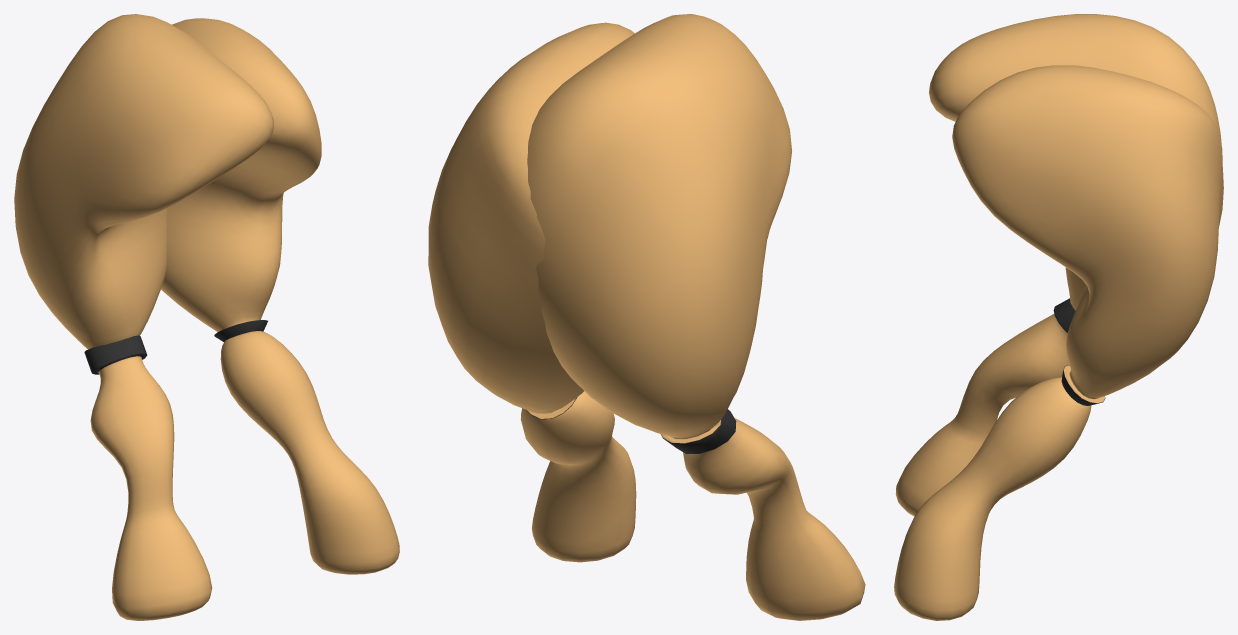
File: hair-006-a6d6a56c.glb
3 renders of one model, left to right at view 1: azimuth 30°, elevation 25°; view 2: azimuth 150°, elevation 25°; view 3: azimuth 270°, elevation 25°, orthographic. The views are drawn at different scales.
Visible parts, largest first — view 1: Geo_Female_White_Hair.011; view 2: Geo_Female_White_Hair.011; view 3: Geo_Female_White_Hair.011.
Boxes of the visible parts, <box> form: Geo_Female_White_Hair.011: <box>14,14,399,620</box>; Geo_Female_White_Hair.011: <box>428,14,865,620</box>; Geo_Female_White_Hair.011: <box>894,14,1223,620</box>.
Size of the model in its own units: 2.29 by 4.03 by 2.3.
